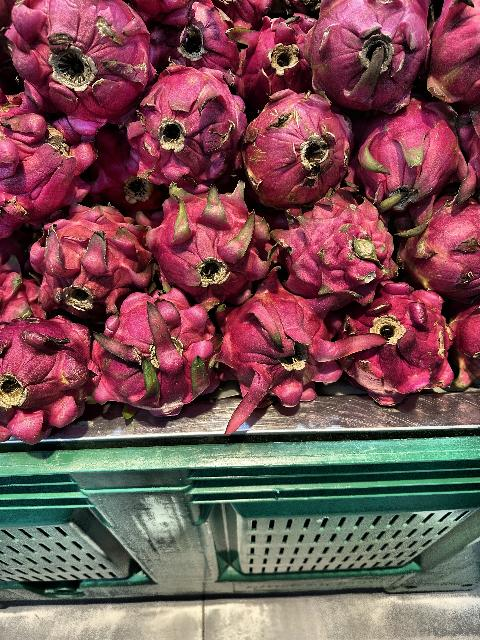buah-naga-matang: (213, 290, 388, 436), (86, 286, 228, 426), (8, 3, 158, 125), (124, 188, 276, 302), (327, 286, 453, 412), (303, 1, 435, 118), (260, 189, 410, 291), (342, 102, 480, 208), (243, 91, 356, 213), (25, 206, 150, 314), (0, 110, 98, 238), (135, 72, 245, 186), (4, 314, 92, 440), (392, 195, 480, 298)
